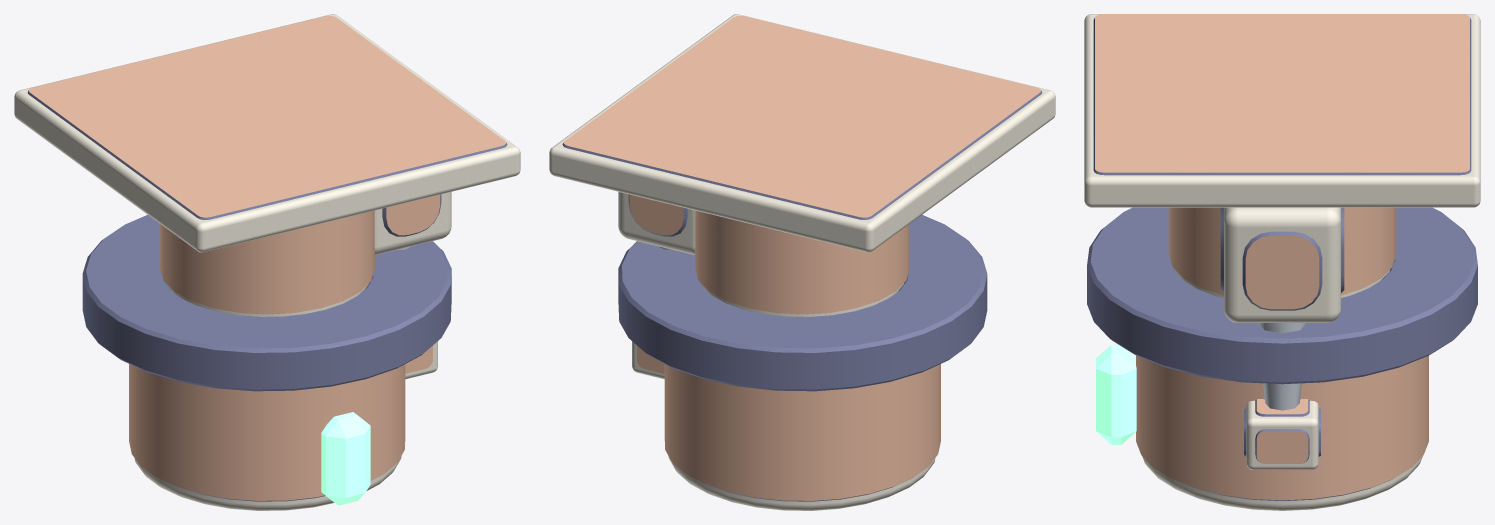
The model's file is R4X_IndependentSteering.fbx.
3 renders of one model, left to right at view 1: azimuth 30°, elevation 25°; view 2: azimuth 150°, elevation 25°; view 3: azimuth 270°, elevation 25°, orthographic. The views are drawn at different scales.
Visible parts, largest first — view 1: R4X_IndependentSteering_Body, R4X_IndependentSteering_Turntable; view 2: R4X_IndependentSteering_Body, R4X_IndependentSteering_Turntable; view 3: R4X_IndependentSteering_Body, R4X_IndependentSteering_Turntable.
Boxes of the visible parts, <box> form: R4X_IndependentSteering_Body: <box>14,14,520,391</box>; R4X_IndependentSteering_Turntable: <box>129,341,437,510</box>; R4X_IndependentSteering_Body: <box>549,14,1055,391</box>; R4X_IndependentSteering_Turntable: <box>632,341,940,510</box>; R4X_IndependentSteering_Body: <box>1084,14,1480,410</box>; R4X_IndependentSteering_Turntable: <box>1096,344,1428,510</box>.
Bounding box in the file's own units: 0.517 × 0.52 × 0.514.
